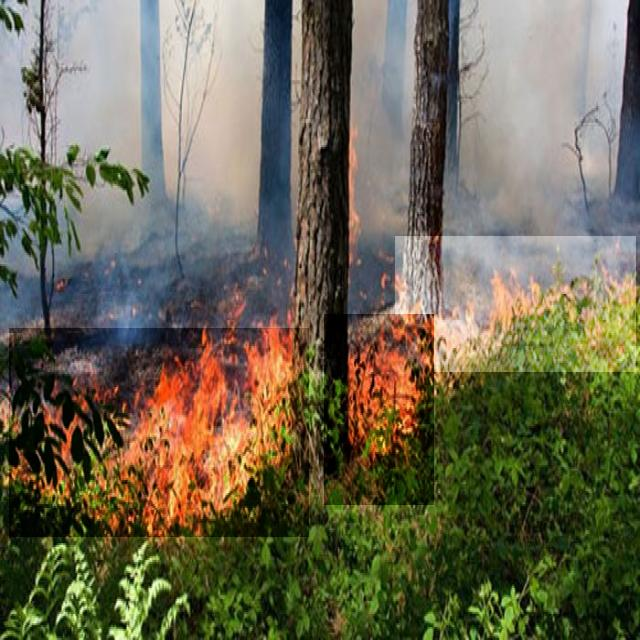Fire: (9, 328, 309, 537), (395, 236, 636, 372), (324, 314, 434, 505)
